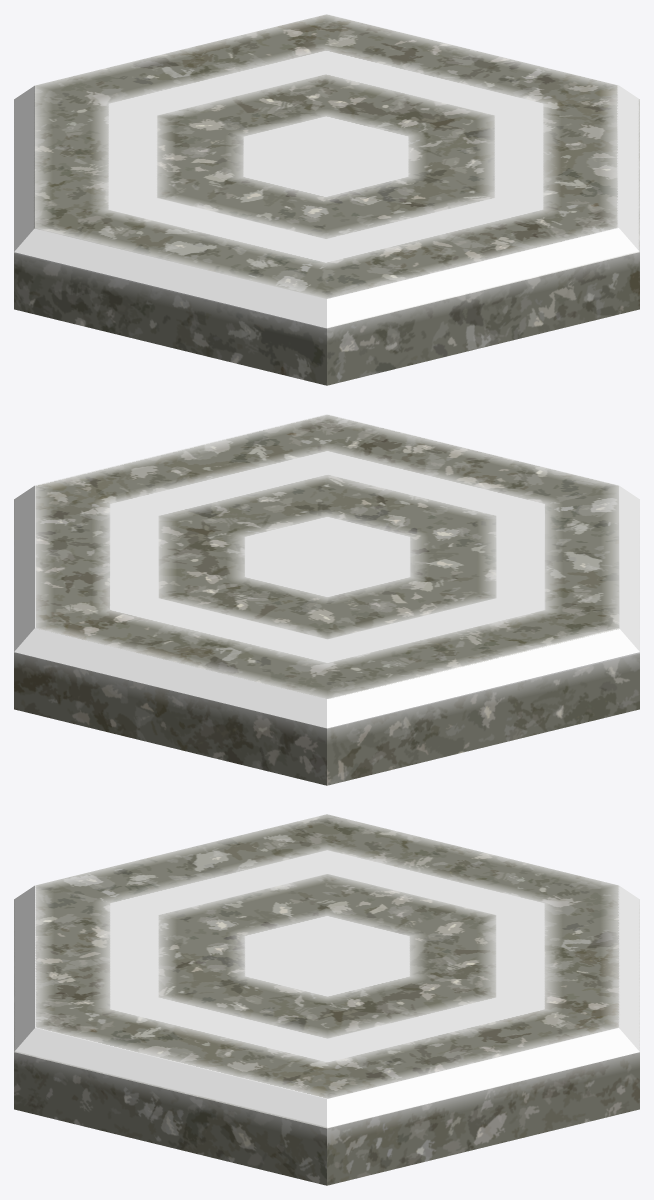
File: tileTeleporter.fbx
The picture shows the model from 3 angles, top to bottom: view 1: azimuth 30°, elevation 25°; view 2: azimuth 150°, elevation 25°; view 3: azimuth 270°, elevation 25°; orthographic projection.
Parts seen in each view (by area): view 1: tileTeleporter; view 2: tileTeleporter; view 3: tileTeleporter.
Part boxes in pixels (bbox=[...]): tileTeleporter: bbox=[14, 14, 639, 385]; tileTeleporter: bbox=[14, 414, 639, 785]; tileTeleporter: bbox=[14, 814, 639, 1185].
Size of the model in its own units: 115 by 13.46 by 100.
Materials: 1 (1 with a texture image).
